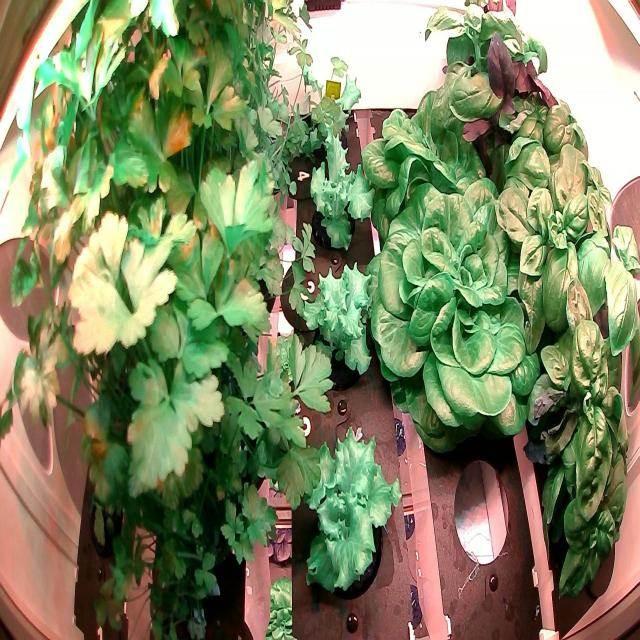Ready: (368, 172, 548, 458)
empty_pod: (443, 450, 518, 576)
young: (354, 68, 499, 242)
